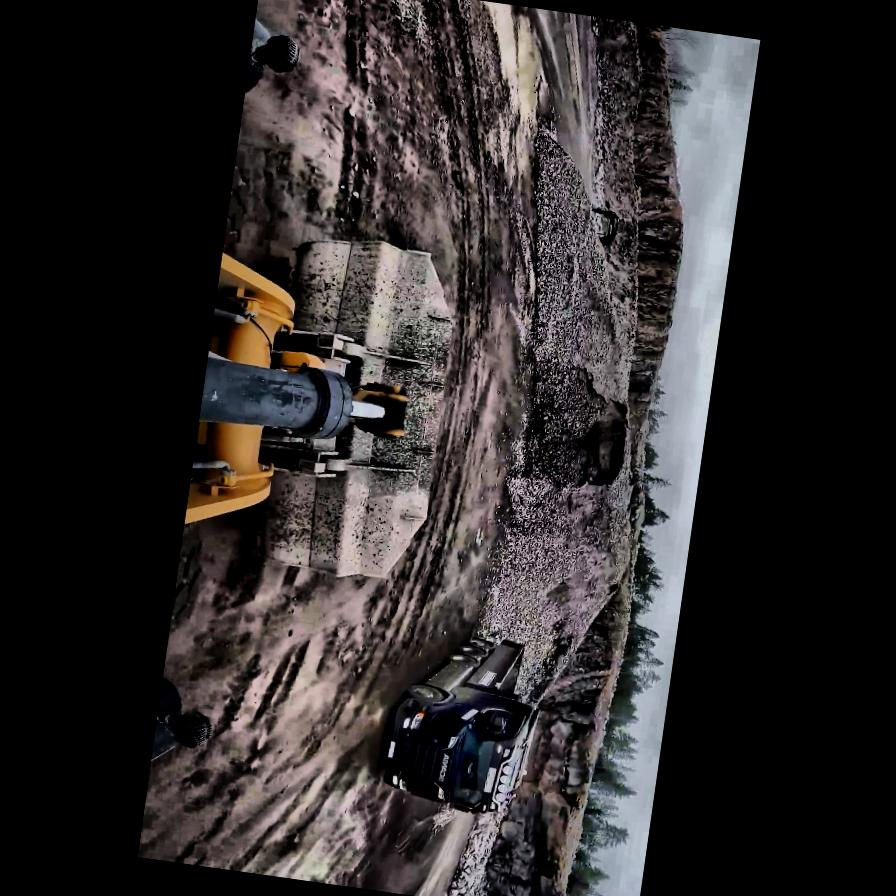anchor: (346, 380, 410, 438)
pile of gravel: (462, 122, 688, 652), (442, 806, 505, 896)
